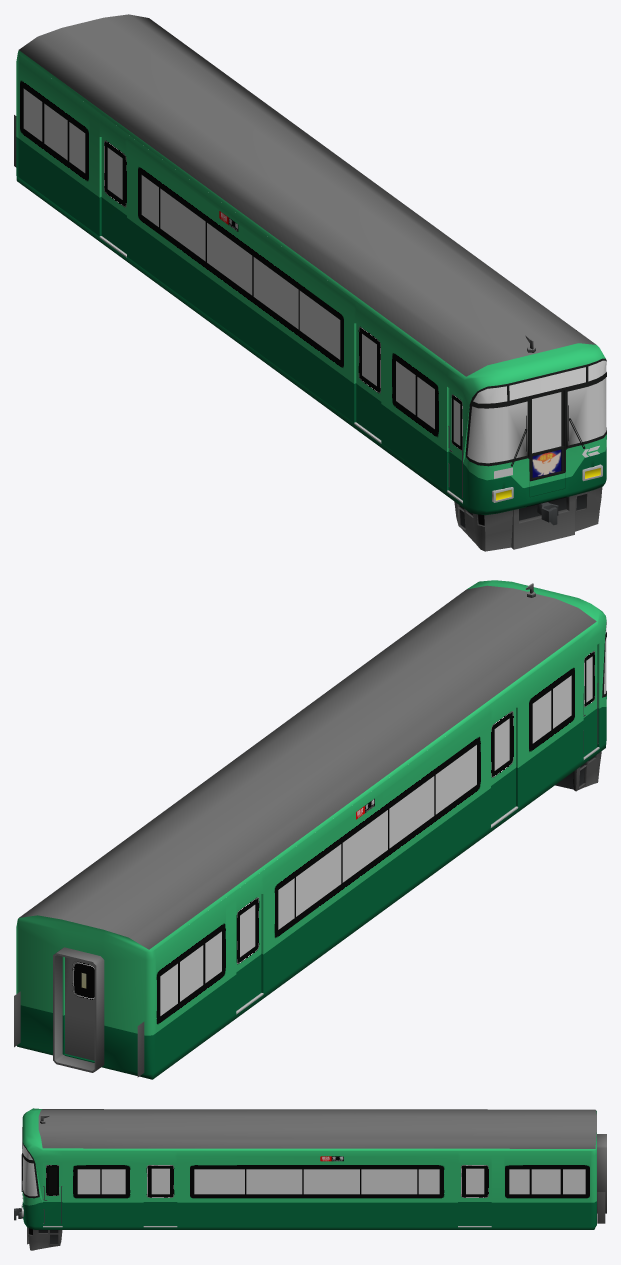
The picture shows the model from 3 angles, top to bottom: view 1: azimuth 30°, elevation 25°; view 2: azimuth 150°, elevation 25°; view 3: azimuth 270°, elevation 25°; orthographic projection. The views are drawn at different scales.
Parts seen in each view (by area): view 1: in; view 2: in; view 3: in.
Part boxes in pixels (left/top/right/bottom): in: left=14, top=14, right=606, bottom=551; in: left=14, top=580, right=606, bottom=1079; in: left=14, top=1108, right=606, bottom=1250.
Size of the model in its own units: 6.54 by 8.81 by 39.7.
22 materials, 20 textured.
